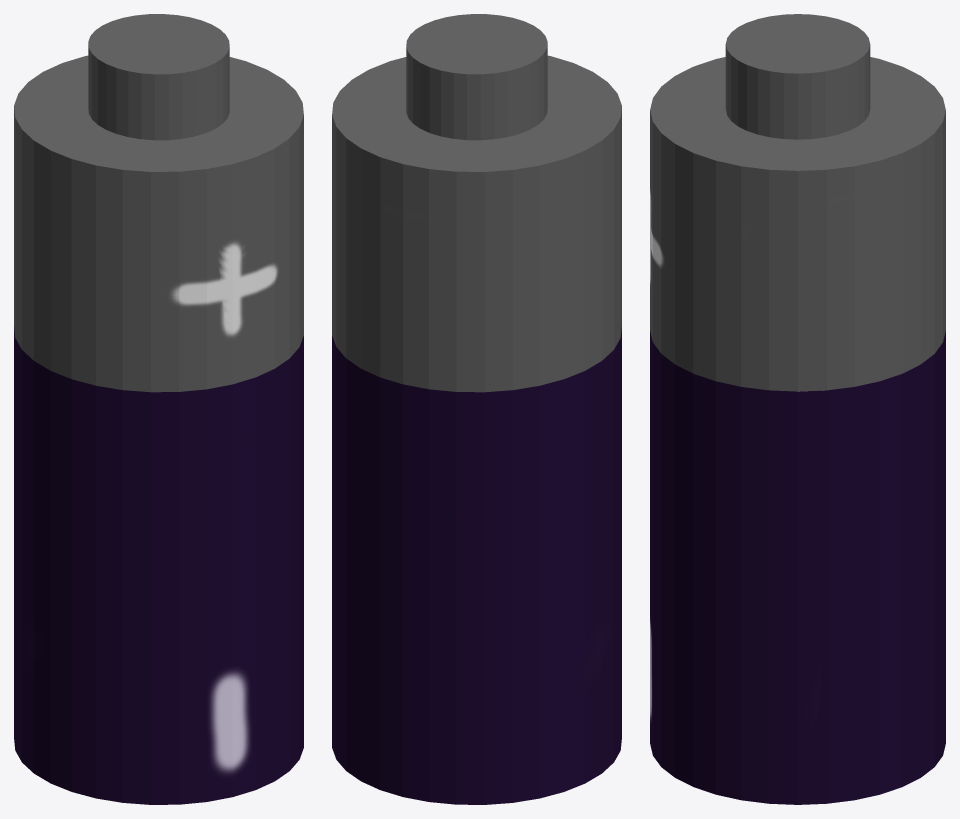
Rendered from Battery.fbx.
3 views of the same model, side by side, from view 1: azimuth 30°, elevation 25°; view 2: azimuth 150°, elevation 25°; view 3: azimuth 270°, elevation 25° (orthographic).
Visible parts, largest first — view 1: Cylinder; view 2: Cylinder; view 3: Cylinder.
Boxes of the visible parts, box(x1,y1,x2,y2) form: Cylinder: box(14, 14, 303, 804); Cylinder: box(332, 14, 621, 804); Cylinder: box(650, 14, 945, 804).
Bounding box in the file's own units: 82.67 × 221 × 84.55.
Materials: 1 (1 with a texture image).
